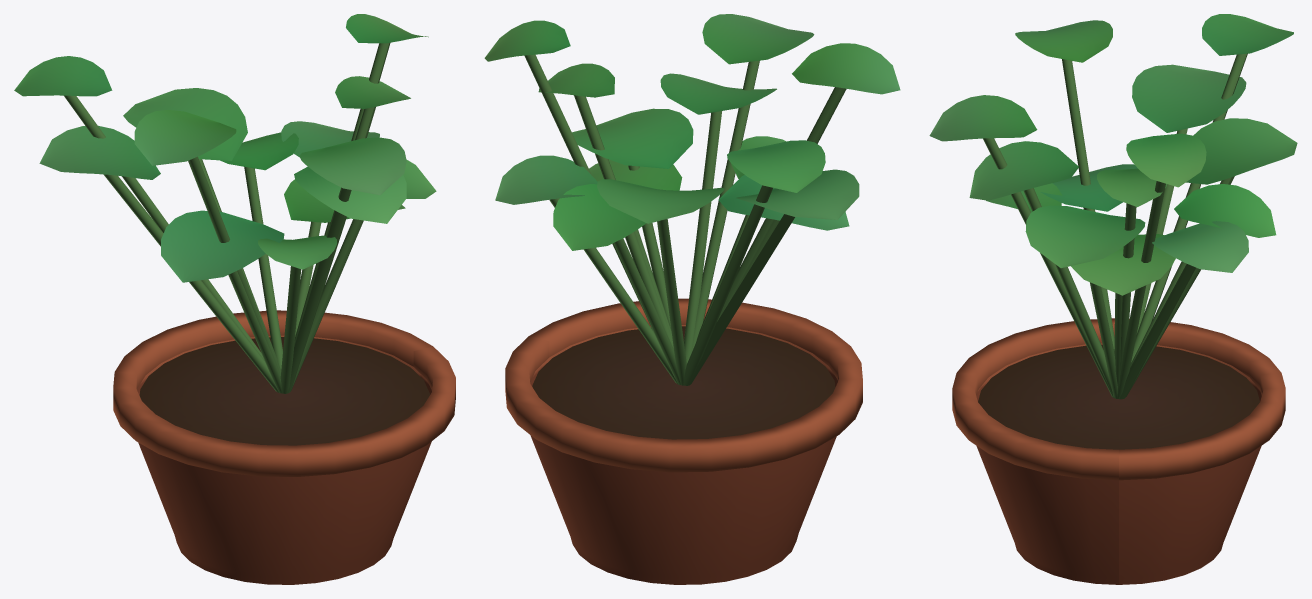
Rendered from pilea.glb.
3 views of the same model, side by side, from view 1: azimuth 30°, elevation 25°; view 2: azimuth 150°, elevation 25°; view 3: azimuth 270°, elevation 25° (orthographic). The views are drawn at different scales.
Visible parts, largest first — view 1: pilea; view 2: pilea; view 3: pilea.
Boxes of the visible parts, left/top/right/bottom form: pilea: left=14, top=14, right=455, bottom=584; pilea: left=484, top=14, right=900, bottom=584; pilea: left=929, top=14, right=1297, bottom=584.
Size of the model in its own units: 0.191 by 0.2381 by 0.1755.
